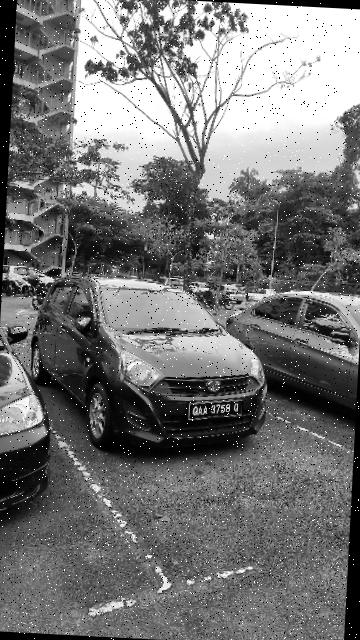License_Plate: (188, 397, 246, 421)
car: (28, 270, 275, 458), (221, 283, 360, 410)
